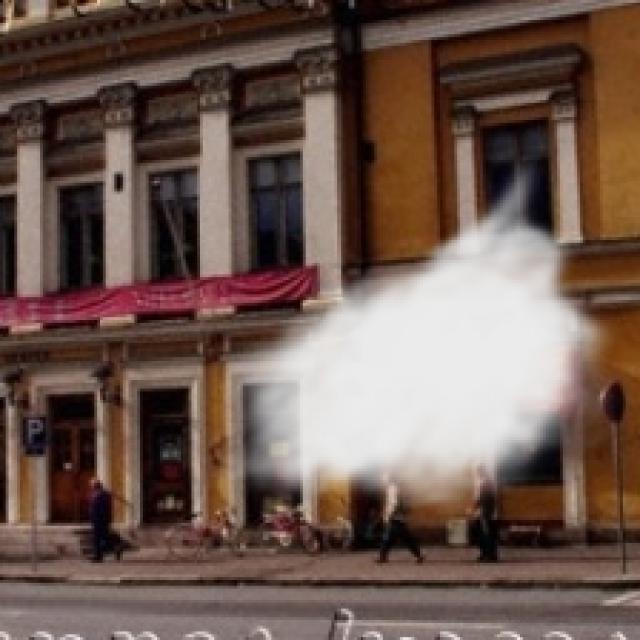smoke: (211, 152, 620, 517)
